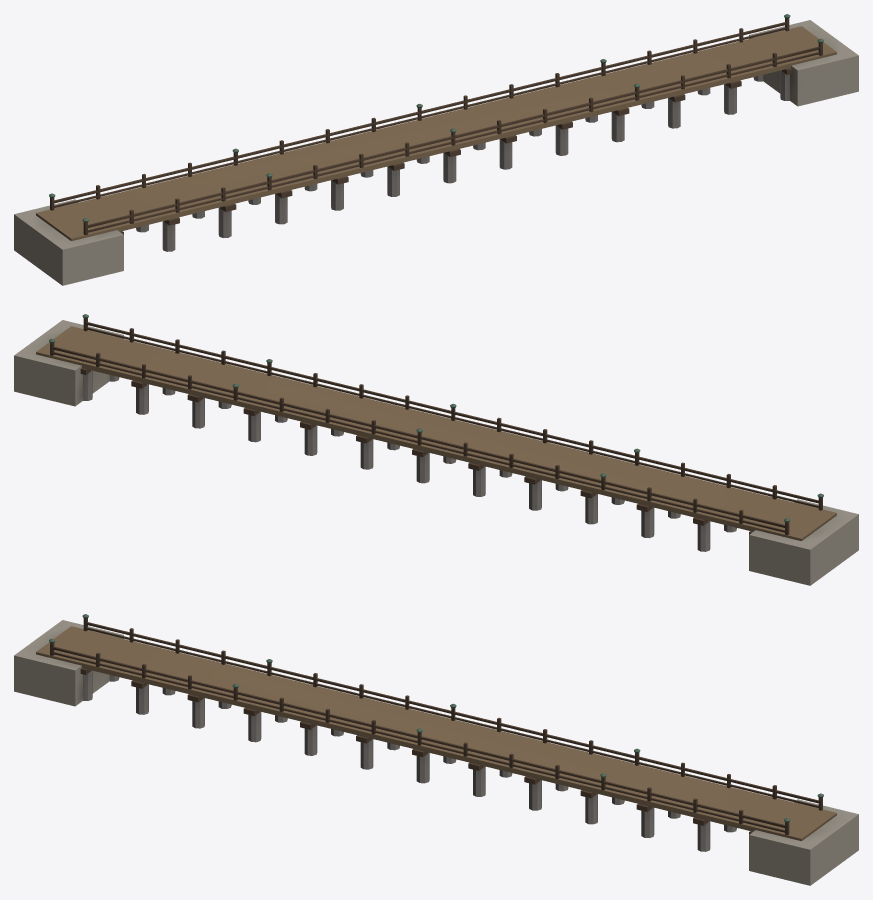
The model's file is sanjo-bridge.glb.
3 renders of one model, top to bottom at view 1: azimuth 30°, elevation 25°; view 2: azimuth 150°, elevation 25°; view 3: azimuth 330°, elevation 25°, orthographic.
Parts seen in each view (by area): view 1: p1_deck, p2_railing, p0_piers; view 2: p1_deck, p2_railing, p0_piers; view 3: p1_deck, p2_railing, p0_piers.
Part boxes in pixels (x1,y1,x2,y2): p1_deck: (14, 20, 858, 285); p2_railing: (49, 14, 823, 235); p0_piers: (120, 68, 792, 251); p1_deck: (14, 320, 858, 585); p2_railing: (49, 314, 823, 535); p0_piers: (80, 368, 752, 551); p1_deck: (14, 620, 858, 885); p2_railing: (49, 614, 823, 835); p0_piers: (80, 668, 752, 851).
Bounding box in the file's own units: 104 × 6.85 × 11.
